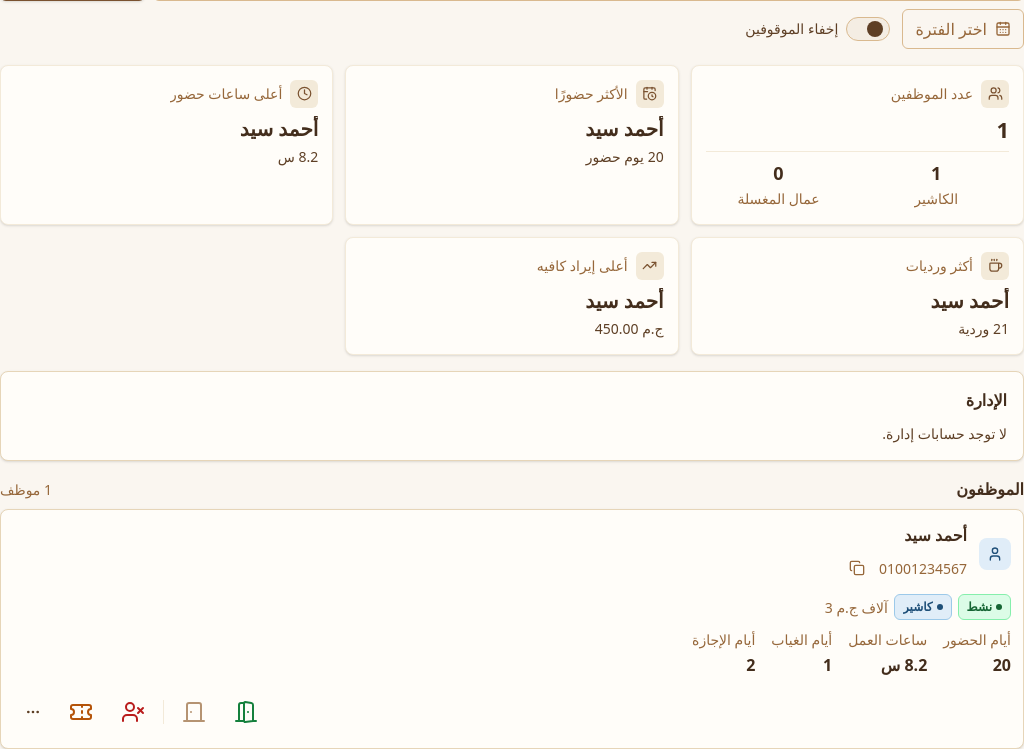
Scenario: EmployeesPage — the roster on a phone › routes a menu entry to the same intent the table row would
(page scrolled)
Click the button named "المزيد من الإجراءات: أحمد سيد": (33,712) top-left (13, 692), bottom-right (53, 732)
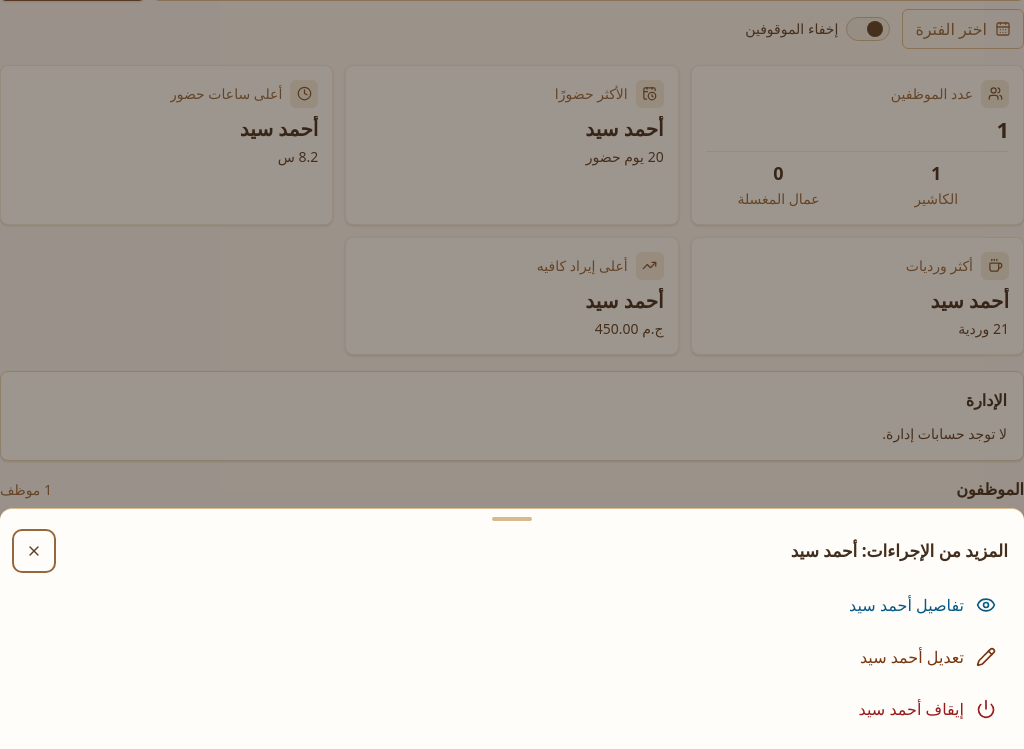
Click the button "تعديل أحمد سيد": (912,657) top-left (16, 633), bottom-right (1008, 681)
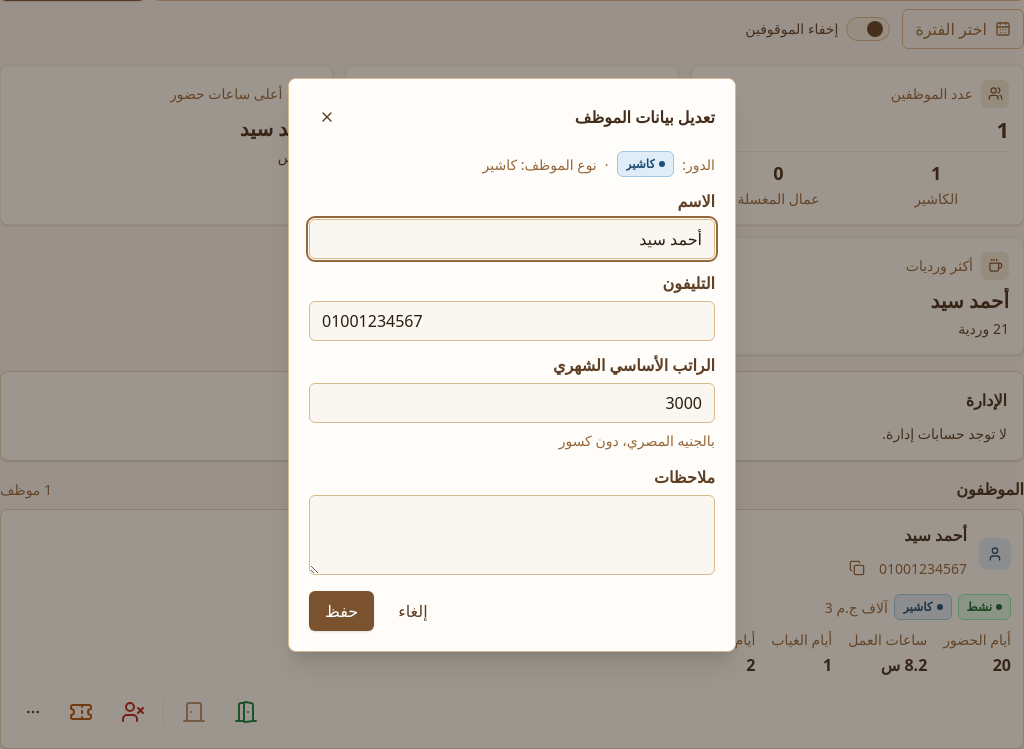
Check: the heading "تعديل بيانات الموظف" is shown, box top-left (575, 106), bottom-right (715, 130)
